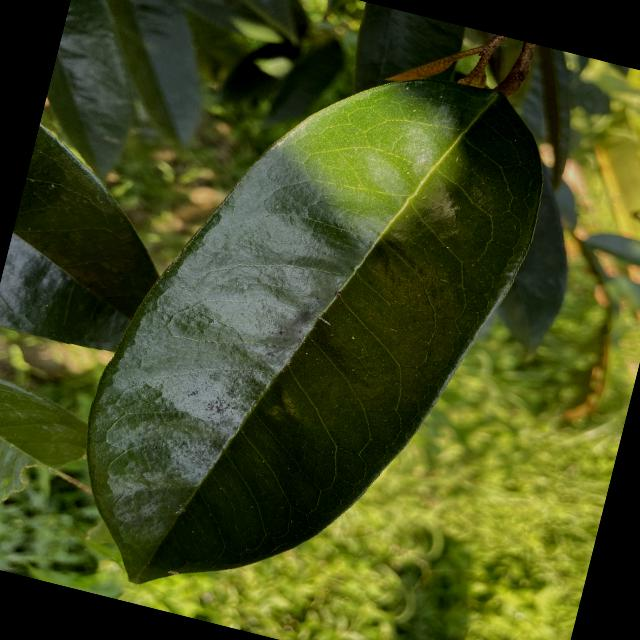No Disease: (41, 0, 581, 639)
